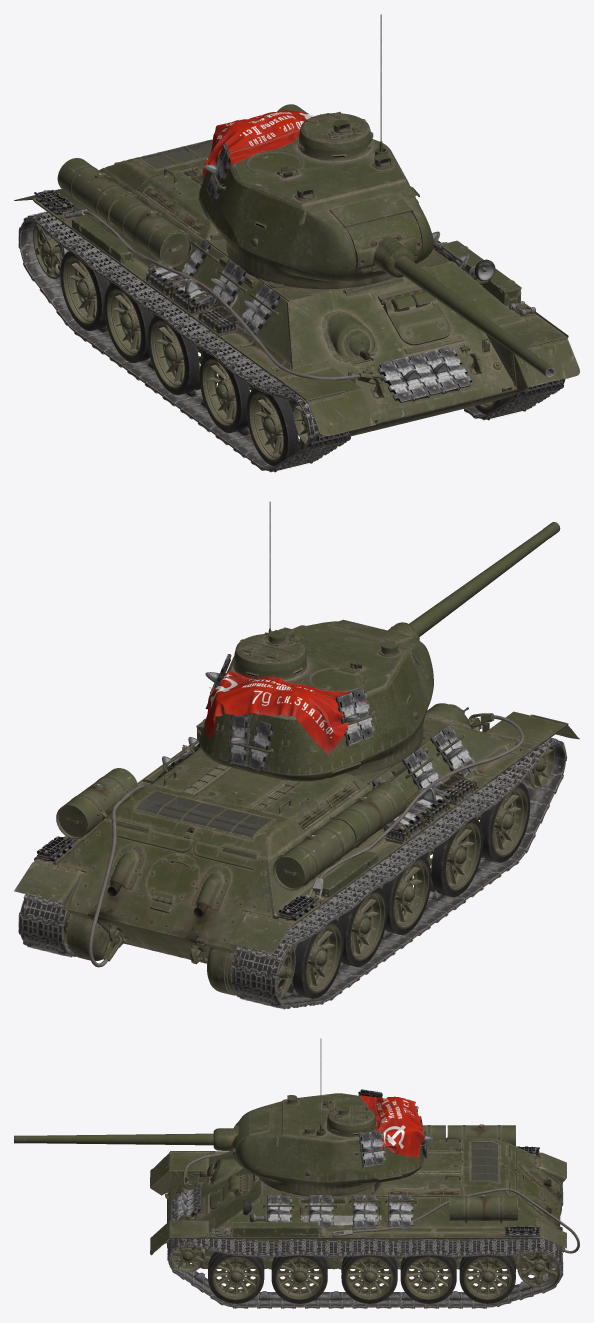
3 renders of one model, top to bottom at view 1: azimuth 30°, elevation 25°; view 2: azimuth 150°, elevation 25°; view 3: azimuth 270°, elevation 25°, orthographic. The views are drawn at different scales.
Parts seen in each view (by area): view 1: Object_18, Object_14, Object_7, Object_32, Object_31, Object_34, Object_12, Object_33, Object_4, Object_36, wheelL5, wheelL3 (+12 smaller); view 2: Object_18, Object_14, Object_7, Object_32, Object_34, Object_31, Object_33, Object_4, Object_30, Object_36, wheelL1, wheelL4 (+14 smaller); view 3: Object_18, Object_14, Object_2, Object_31, Object_32, Object_33, Object_10, Object_12, Object_36, Object_4, wheelR5, wheelR1 (+12 smaller).
Boxes of the visible parts, bbox=[...] form: Object_18: bbox=[57, 142, 518, 436]; Object_14: bbox=[198, 112, 433, 289]; Object_7: bbox=[18, 211, 351, 472]; Object_32: bbox=[105, 139, 579, 397]; Object_31: bbox=[146, 240, 521, 436]; Object_34: bbox=[34, 158, 191, 266]; Object_12: bbox=[346, 212, 555, 377]; Object_33: bbox=[14, 169, 495, 384]; Object_4: bbox=[202, 110, 314, 178]; Object_36: bbox=[170, 132, 475, 400]; wheelL5: bbox=[246, 388, 303, 466]; wheelL3: bbox=[147, 315, 217, 395]; Object_18: bbox=[54, 703, 516, 995]; Object_14: bbox=[198, 619, 433, 781]; Object_7: bbox=[231, 737, 567, 1009]; Object_32: bbox=[105, 747, 366, 858]; Object_34: bbox=[273, 781, 407, 924]; Object_31: bbox=[14, 711, 579, 908]; Object_33: bbox=[88, 704, 524, 967]; Object_4: bbox=[204, 671, 369, 754]; Object_30: bbox=[56, 768, 454, 867]; Object_36: bbox=[162, 654, 469, 815]; wheelL1: bbox=[279, 919, 343, 998]; wheelL4: bbox=[413, 817, 483, 897]; Object_18: bbox=[165, 1138, 562, 1275]; Object_14: bbox=[236, 1093, 426, 1196]; Object_2: bbox=[167, 1238, 563, 1308]; Object_31: bbox=[150, 1151, 566, 1248]; Object_32: bbox=[150, 1137, 514, 1255]; Object_33: bbox=[183, 1148, 579, 1253]; Object_10: bbox=[171, 1116, 539, 1237]; Object_12: bbox=[14, 1114, 249, 1166]; Object_36: bbox=[171, 1090, 432, 1229]; Object_4: bbox=[360, 1095, 424, 1158]; wheelR5: bbox=[208, 1251, 264, 1303]; wheelR1: bbox=[459, 1245, 515, 1303].
Size of the model in its own units: 3.04 by 4.01 by 8.33.
13 materials, 13 textured.
